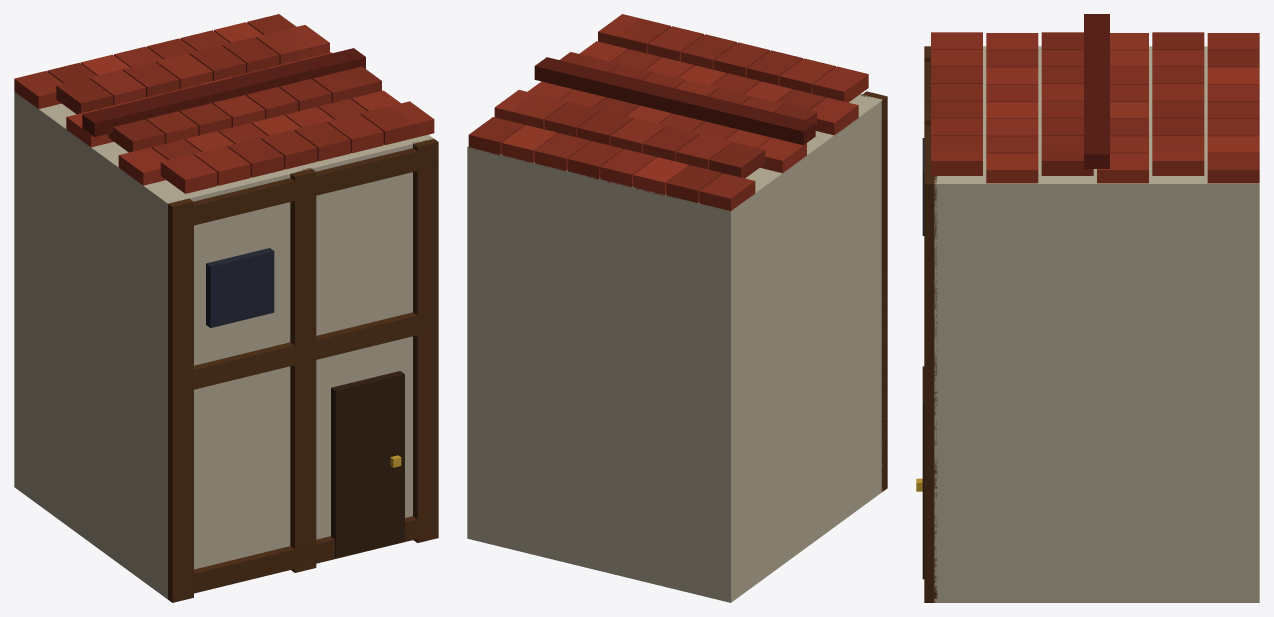
File: t_house_0.glb
3 views of the same model, side by side, from view 1: azimuth 30°, elevation 25°; view 2: azimuth 150°, elevation 25°; view 3: azimuth 270°, elevation 25° (orthographic). The views are drawn at different scales.
Parts seen in each view (by area): view 1: t_house_0; view 2: t_house_0; view 3: t_house_0.
Boxes of the visible parts, x1=… form: t_house_0: x1=14, y1=14, x2=438, y2=602; t_house_0: x1=467, y1=14, x2=887, y2=602; t_house_0: x1=916, y1=14, x2=1259, y2=602.
Bounding box in the file's own units: 1.02 × 1.53 × 1.06.
